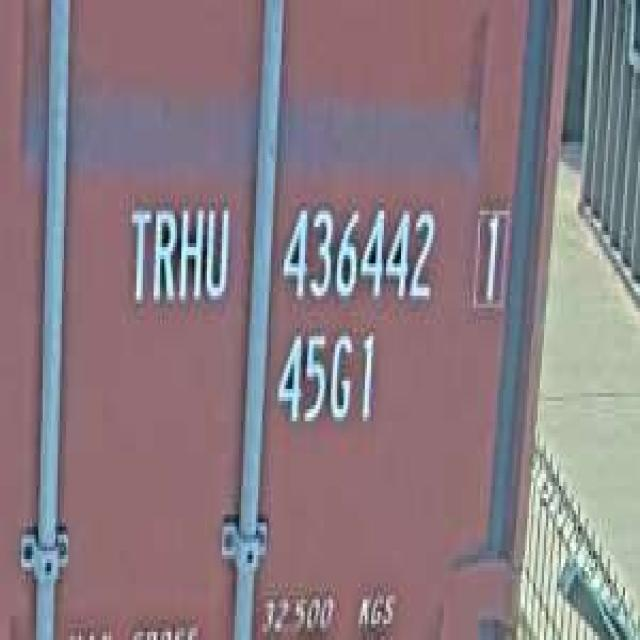dv: (467, 198, 512, 316)
owner: (124, 190, 232, 316)
serial: (275, 190, 440, 312)
size: (271, 320, 378, 437)
